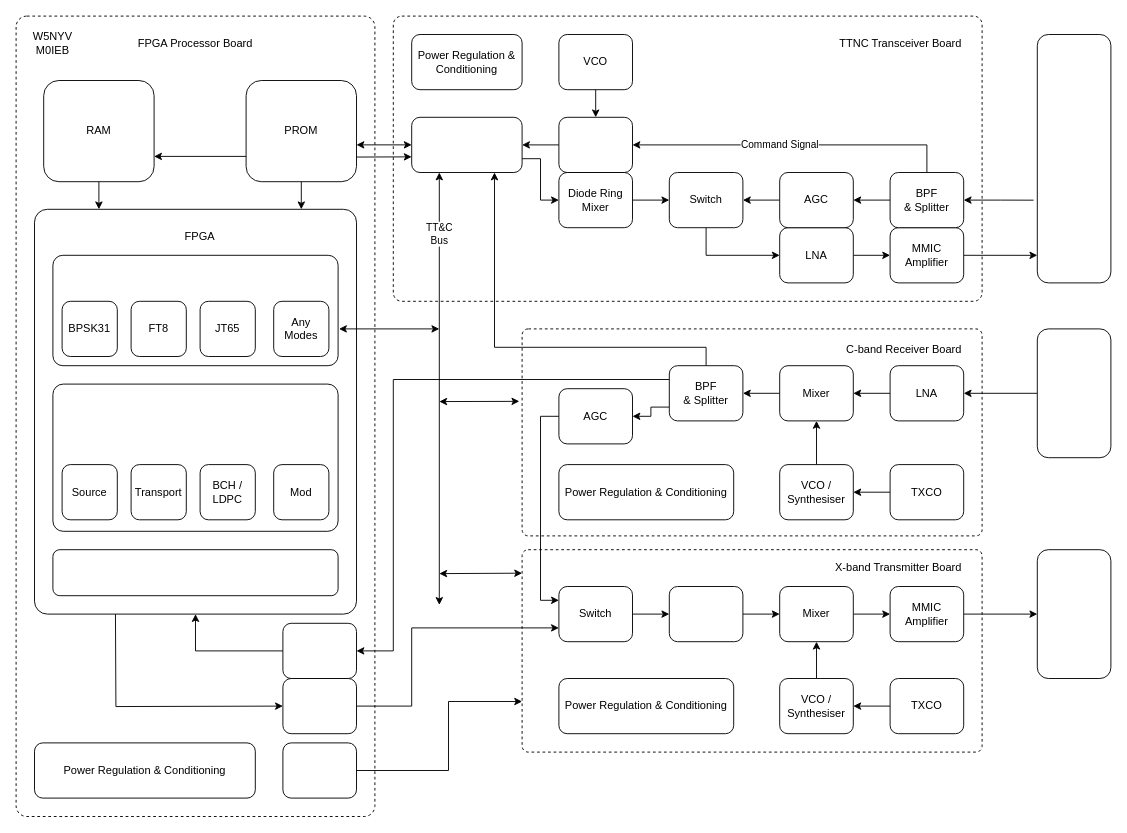
Image size: 1127x833. Some labels were removed from this diagram. The box of each missing label's shape, as (x1, y1, x2, y2) in pixels:
ADC: (282, 622, 356, 678)
C-band Patch: (1036, 328, 1111, 458)
DAC: (282, 678, 356, 734)
DVBS2X: (52, 383, 338, 531)
Experimental Logic Area: (52, 549, 338, 596)
Filtering & Coupling: (668, 586, 743, 642)
Generic Inbuilt Processors (C/C++ on RT-Linux): (52, 254, 338, 366)
GPIO (PTT): (282, 742, 356, 798)
PSK Demod: (558, 116, 632, 172)
RadHard TT&C: (411, 116, 522, 172)
UHF Omni Dipole: (1036, 34, 1111, 283)
X-band Patch: (1036, 549, 1111, 678)
